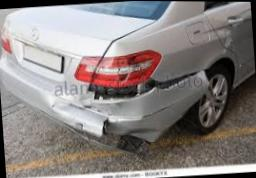Bumper: (27, 70, 212, 153)
